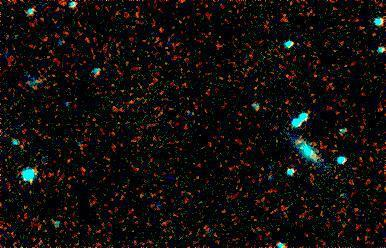star: (283, 125, 313, 155)
